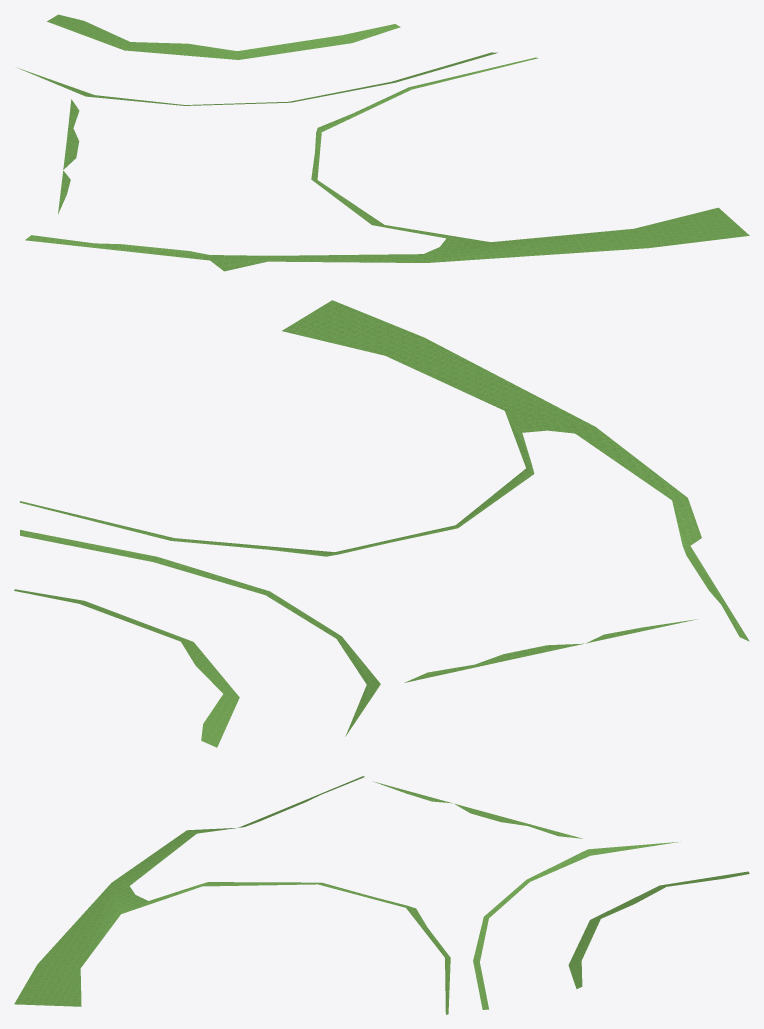
The model's file is kd_stage_1363c5_8_12.glb.
3 renders of one model, top to bottom at view 1: azimuth 30°, elevation 25°; view 2: azimuth 150°, elevation 25°; view 3: azimuth 270°, elevation 25°, orthographic. The views are drawn at different scales.
Visible parts, largest first — view 1: kd_stage_1363c5_8_12; view 2: kd_stage_1363c5_8_12; view 3: kd_stage_1363c5_8_12.
Boxes of the visible parts, x1,y1,x2,y2 form: kd_stage_1363c5_8_12: (17,14,749,271); kd_stage_1363c5_8_12: (14,300,749,747); kd_stage_1363c5_8_12: (14,776,749,1014).
Bounding box in the file's own units: 58.51 × 1.51 × 72.54.
Materials: 1 (1 with a texture image).
